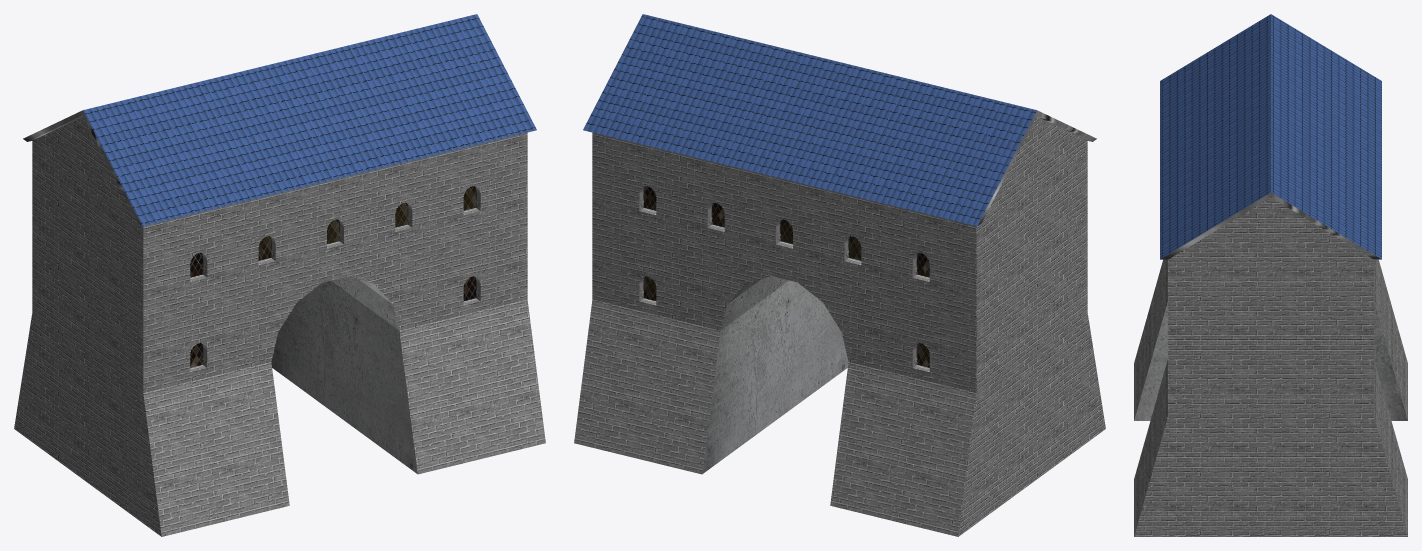
Rendered from HouseBigGate.fbx.
The picture shows the model from 3 angles, left to right: view 1: azimuth 30°, elevation 25°; view 2: azimuth 150°, elevation 25°; view 3: azimuth 270°, elevation 25°; orthographic projection. The views are drawn at different scales.
Parts seen in each view (by area): view 1: HouseBigGate; view 2: HouseBigGate; view 3: HouseBigGate.
Part boxes in pixels (x1,y1,x2,y2): HouseBigGate: (14, 14, 545, 536); HouseBigGate: (574, 14, 1105, 536); HouseBigGate: (1134, 14, 1407, 536).
Bounding box in the file's own units: 2310 × 2093 × 1497.
